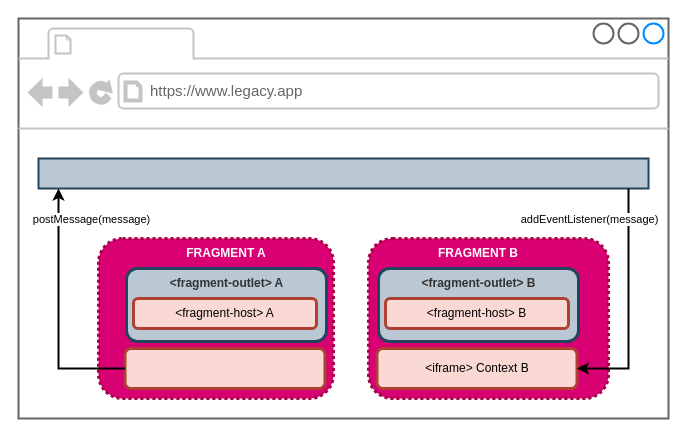
Some shapes in this 686 by 436 pixel diagram are drawn without their labels. The shapes that lost their labels are listed below. From the top down, each one's centre as x and y in pixels, then its label:
point (133, 43): Page 1
point (343, 173): Broadcast Channel
point (224, 368): <iframe> Context A
